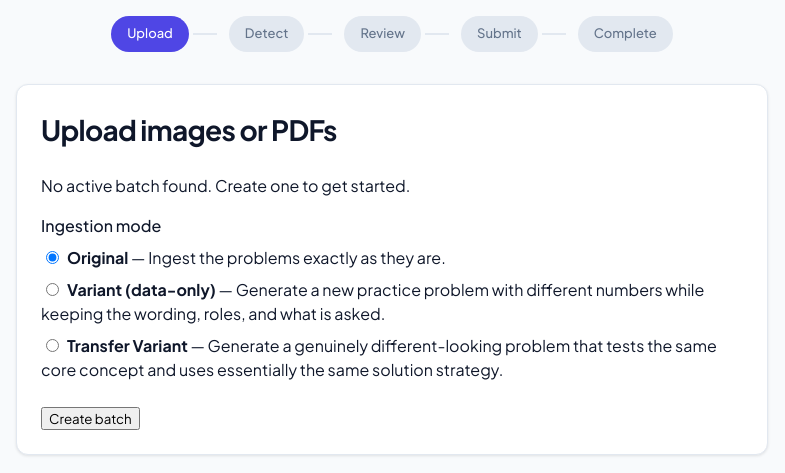
Test: BulkIngestionWizard › creates a variant batch with the selected mode
Expected: the button with test id "bulk-wizard-create-batch" is shown, [41,407,140,430]
What coordinates should you click on to do the following:
click the radio button with test id "bulk-wizard-mode-data-only"
I would click on:
 (52, 289)
Its box is [46,283,59,296].
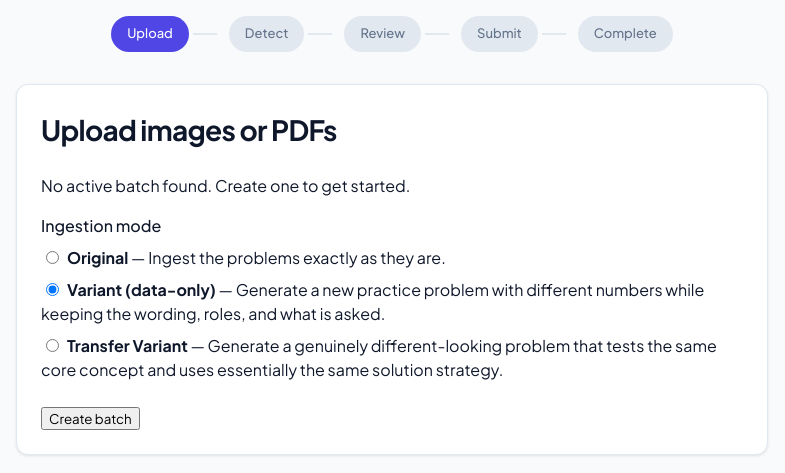
What coordinates should you click on to do the following:
click the button with test id "bulk-wizard-create-batch"
I would click on:
 (90, 418)
Its box is [41,407,140,430].
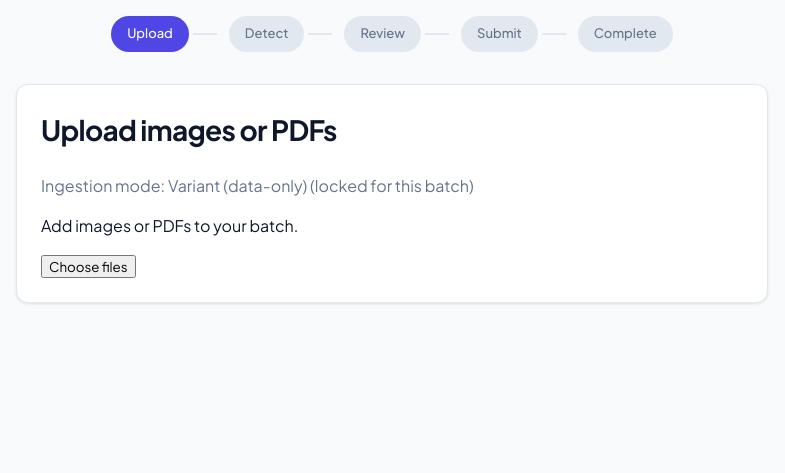
Now the text with test id "bulk-wizard-mode-locked" shows "Variant (data-only)", box [168,175,307,196]
